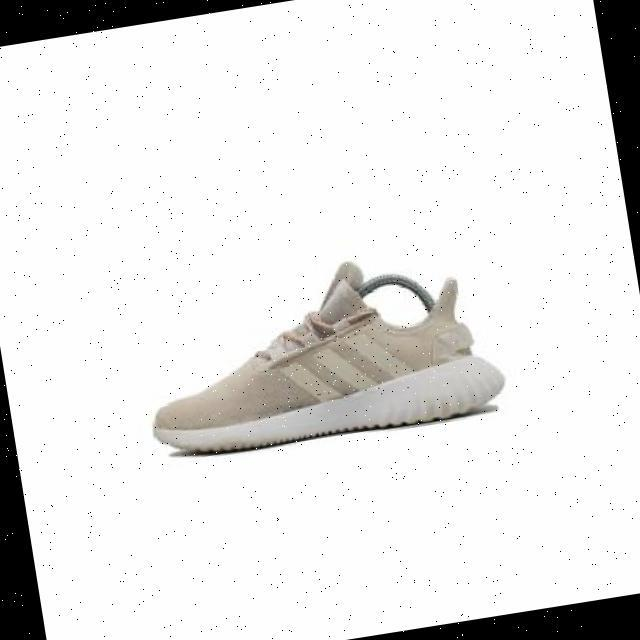Adidas: (273, 317, 419, 413)
